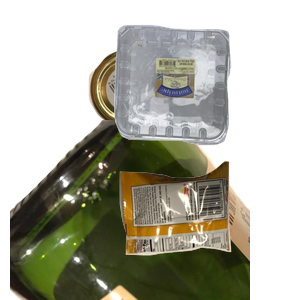glass: (10, 120, 250, 300)
metal: (86, 46, 248, 169)
plastic: (112, 22, 300, 160)
trash: (117, 159, 300, 300)
